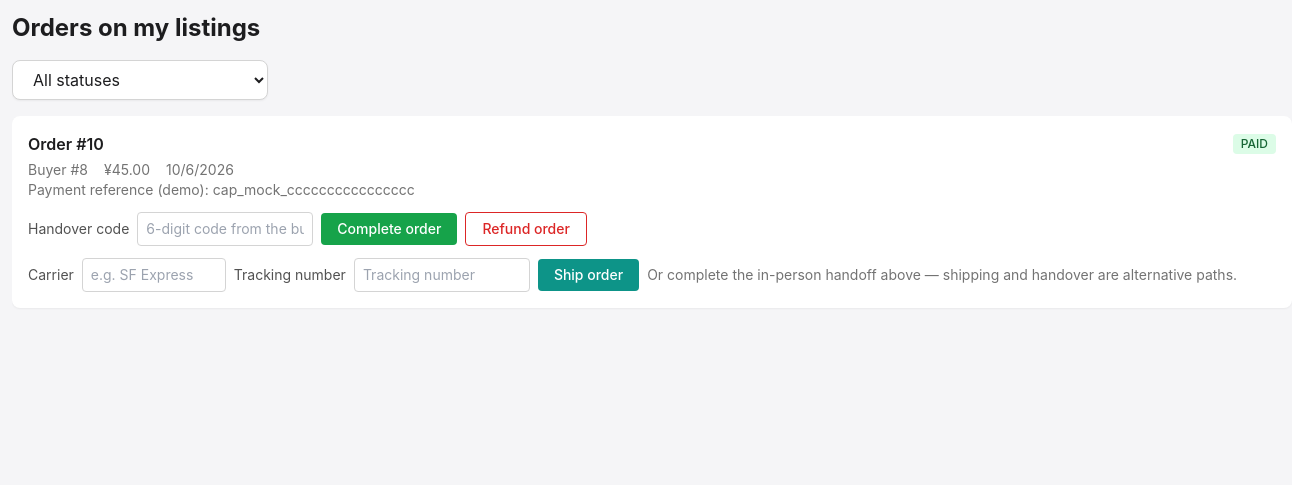
Scenario: SellerOrdersPage › a refund flows both PSP references through the refetched row (backlog #119)
Expected: the text "Order #10" is shown, [28,132,104,156]
Expected: the text "Refund reference" is not shown
Click the button "Refund order" at (526, 229), box [465,212,587,246]
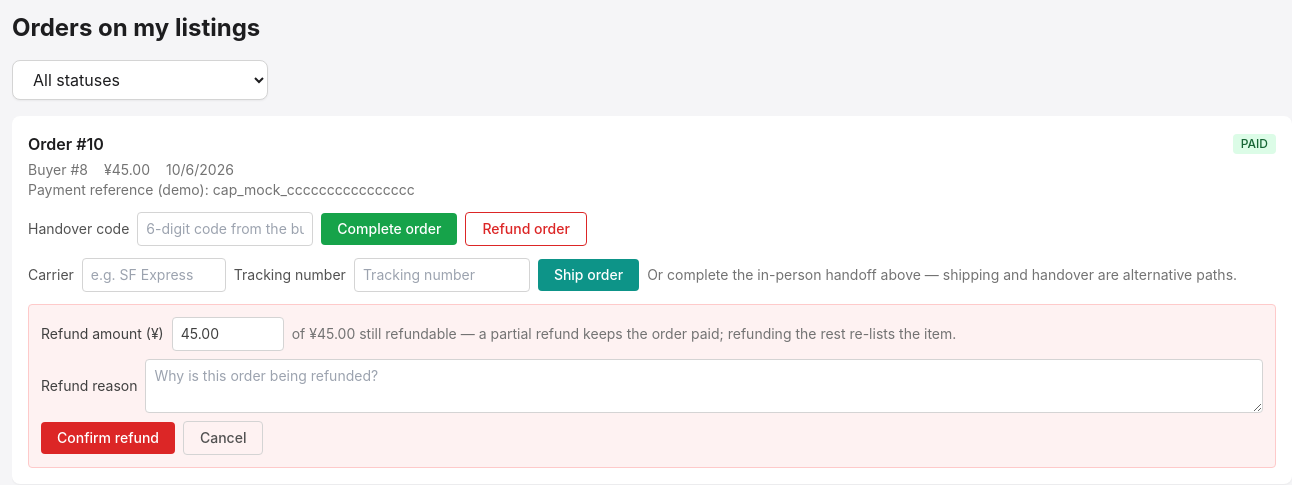
Type "Item arrived damaged" into the text box labelled "Refund reason" at (704, 386), box [146,359,1263,413]
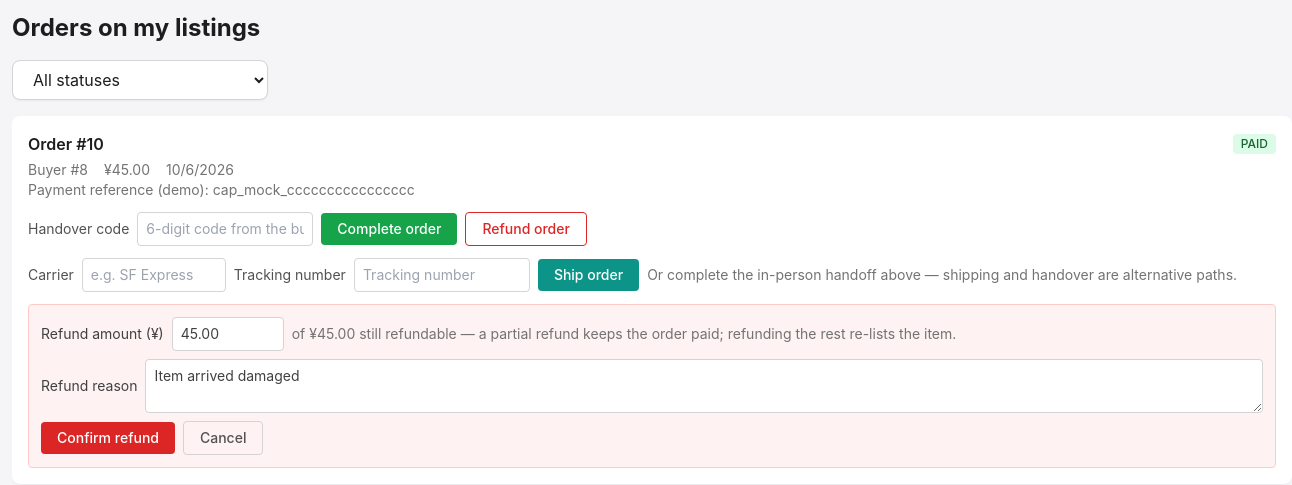
Click the button "Confirm refund" at (108, 438), box [41,422,175,454]
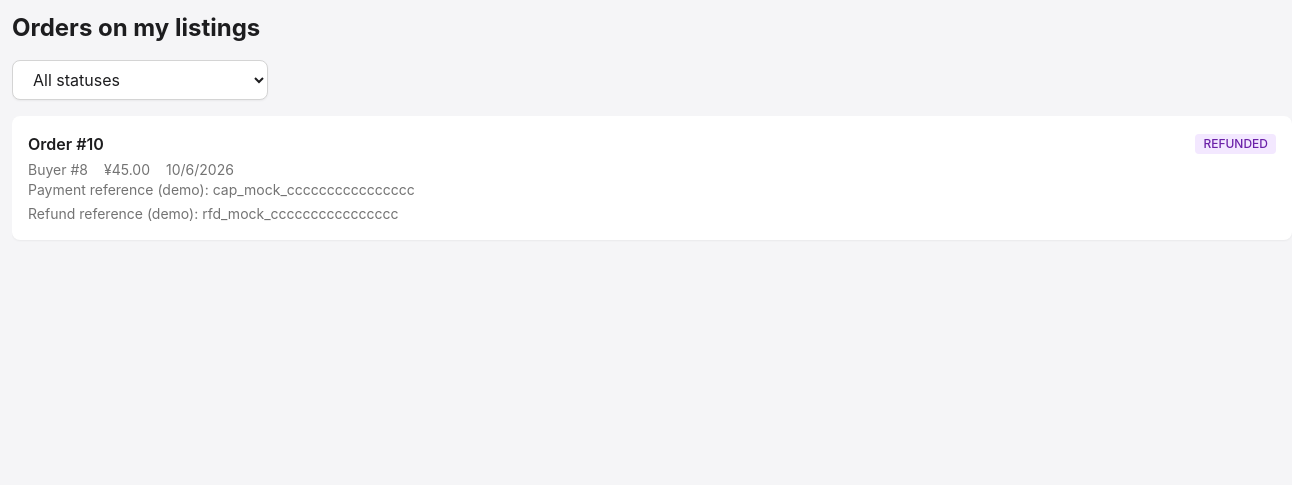
Expected: the text "Payment reference (demo): cap_mock_cccccccccccccccc" is shown, [28,181,415,198]
Expected: the text "Refund reference (demo): rfd_mock_cccccccccccccccc" is shown, [28,205,399,222]
